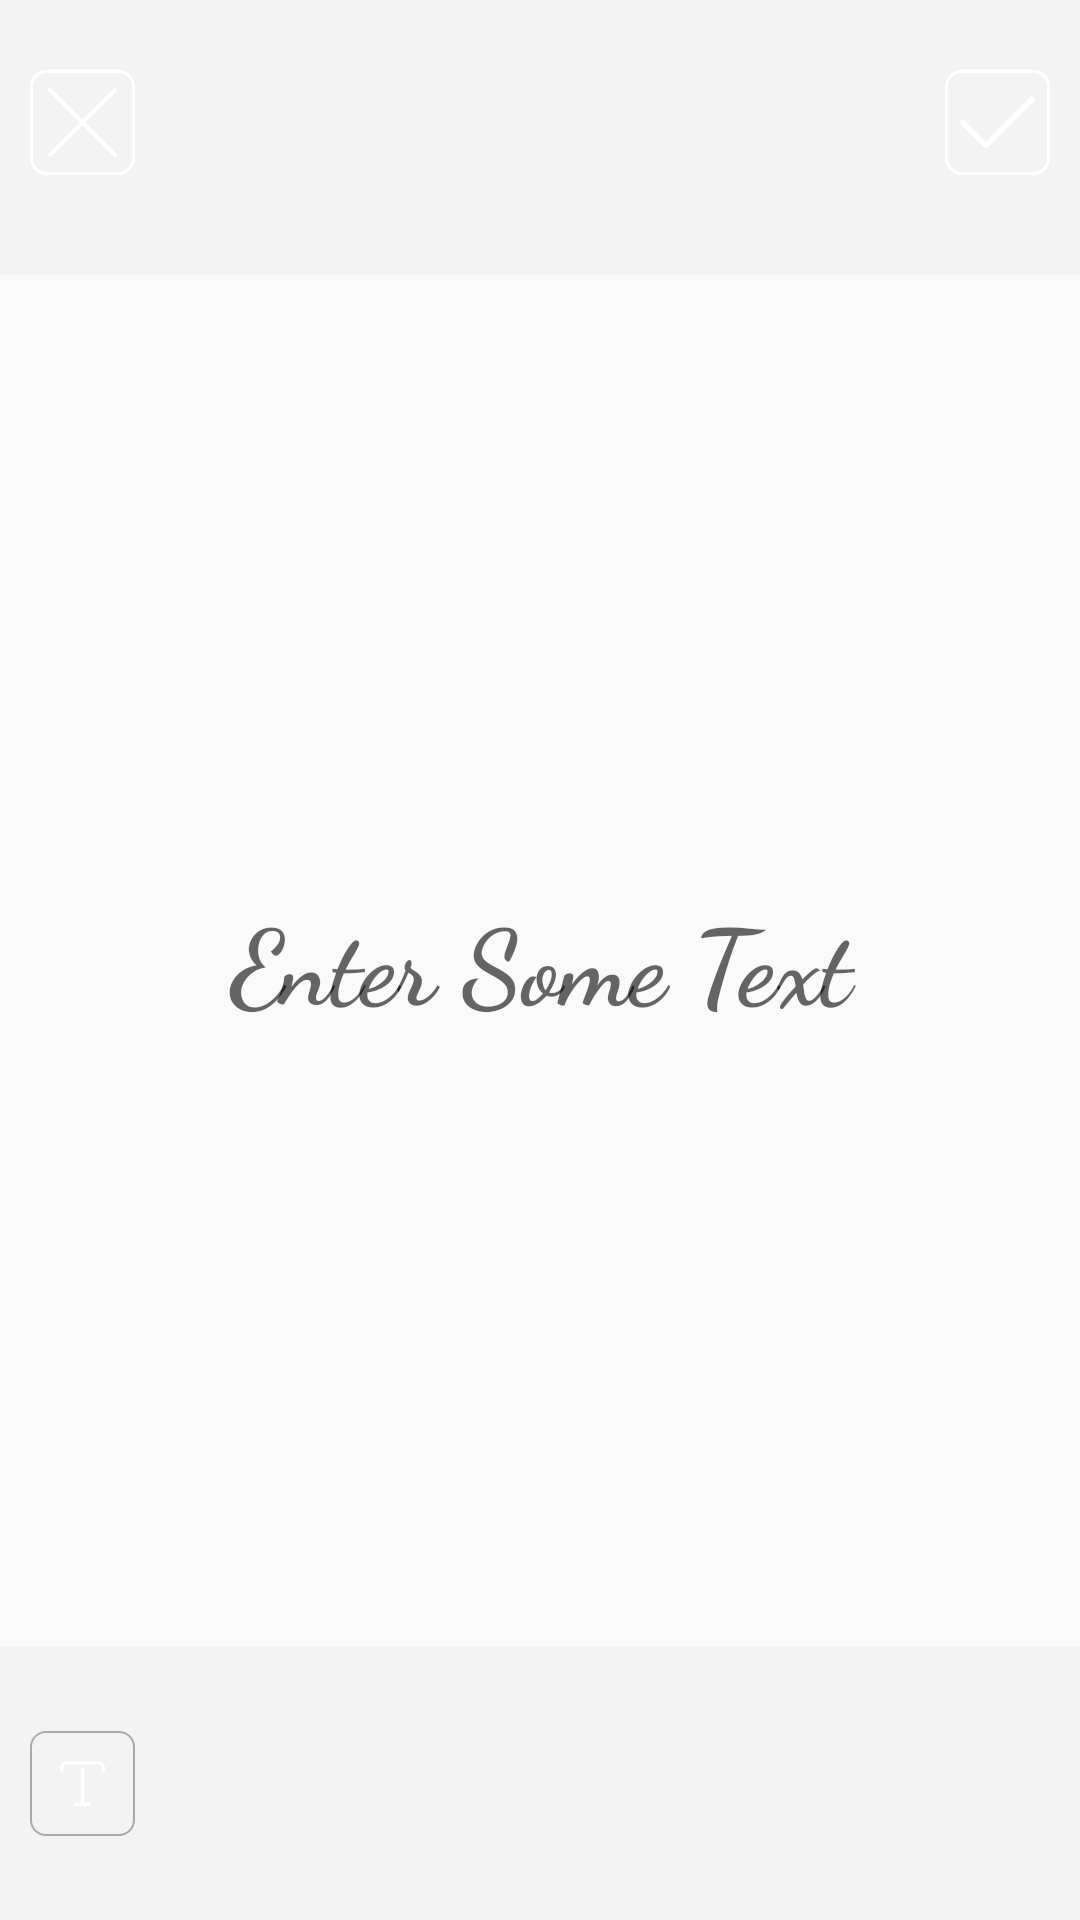

Icon bounding boxes for this 1080w x 1920h phone screenshot, format (x1, y1, x2, y2):
type: (30, 1731, 135, 1836)
